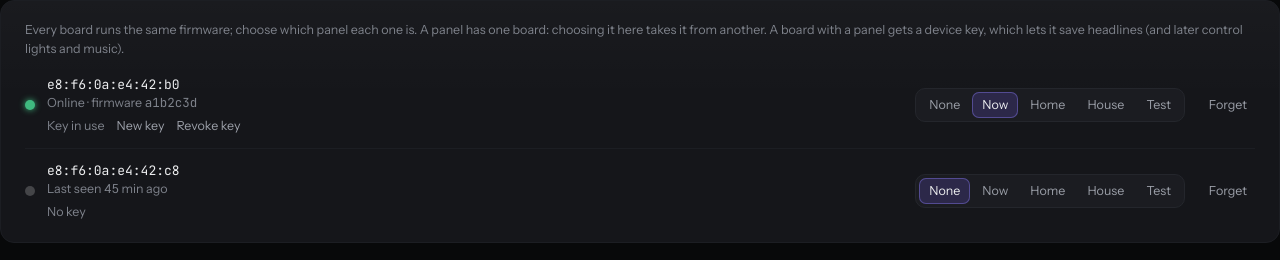
Test: DeskBoardsEditor › shows the key of each board and revokes or renews it
This screenshot has width=1280, height=260.
Expected: the text "Key in use" is shown, left=47, top=117, right=104, bottom=136
Expected: the text "No key" is shown, left=47, top=203, right=86, bottom=222
Click the button "Revoke key": [208, 126] box left=176, top=117, right=240, bottom=136
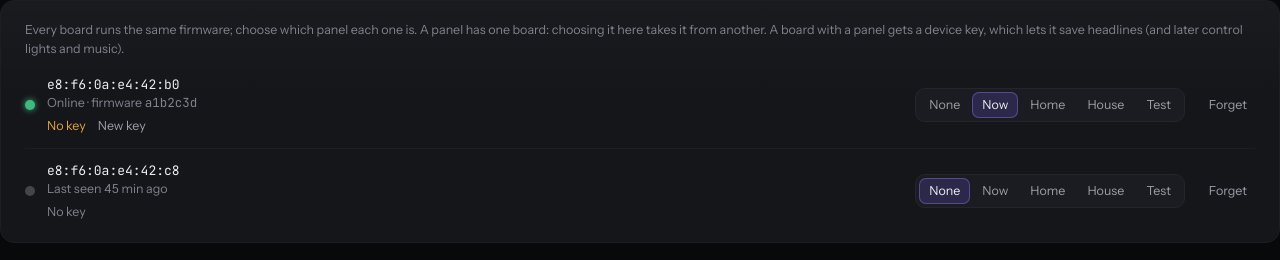
Result: the text "No key" is shown 2 times at left=47, top=117, right=86, bottom=136; left=47, top=203, right=86, bottom=222
Click the button "New key": [122, 126] box left=98, top=117, right=146, bottom=136
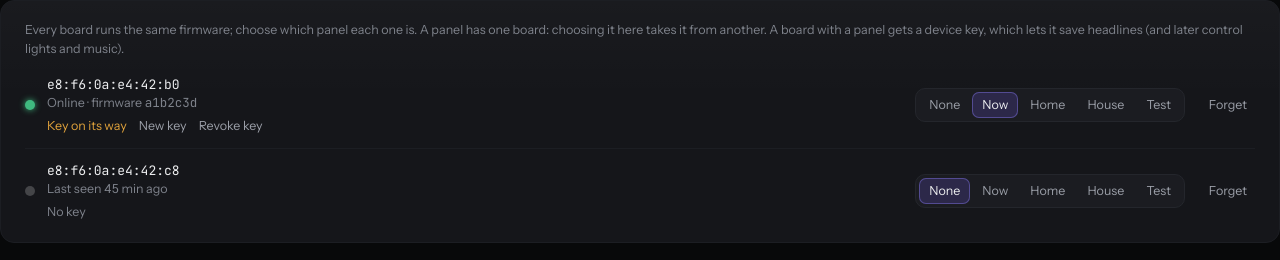
Result: the text "Key on its way" is shown at left=47, top=117, right=127, bottom=136
